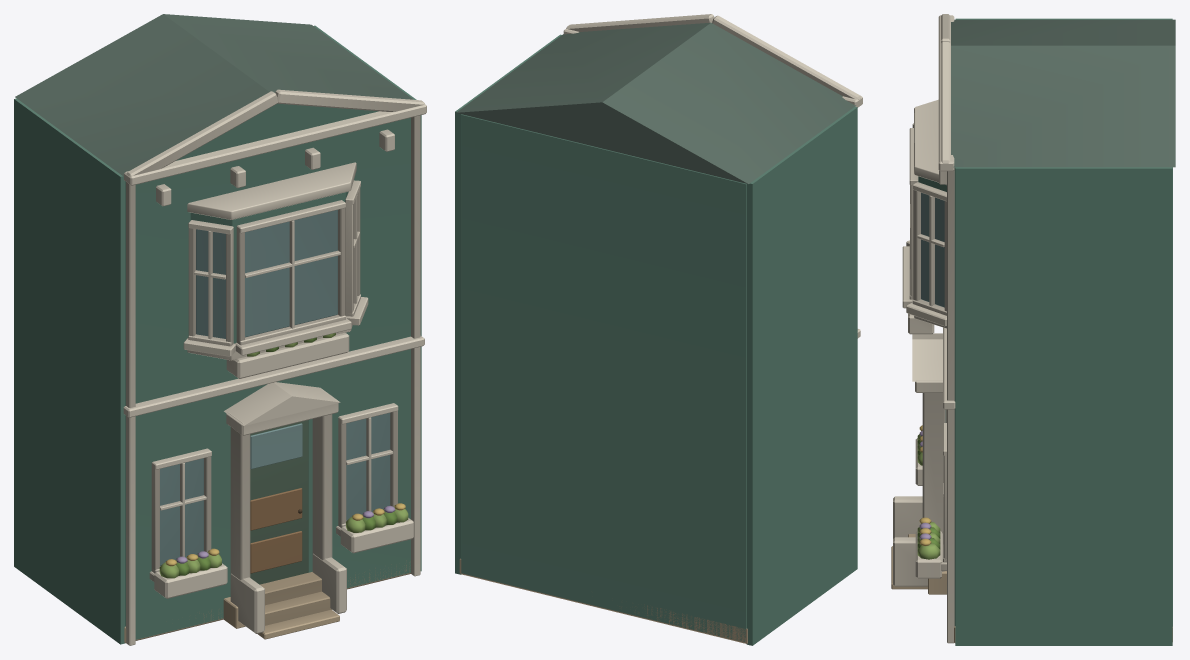
File: facade_sf_4.glb
3 renders of one model, left to right at view 1: azimuth 30°, elevation 25°; view 2: azimuth 150°, elevation 25°; view 3: azimuth 270°, elevation 25°, orthographic. The views are drawn at different scales.
Visible parts, largest first — view 1: facade_sf_4; view 2: facade_sf_4; view 3: facade_sf_4.
Boxes of the visible parts, x1,y1,x2,y2 form: facade_sf_4: (14,14,426,645); facade_sf_4: (455,14,862,645); facade_sf_4: (891,14,1175,645).
Size of the model in its own units: 4.04 by 6.67 by 3.24.
